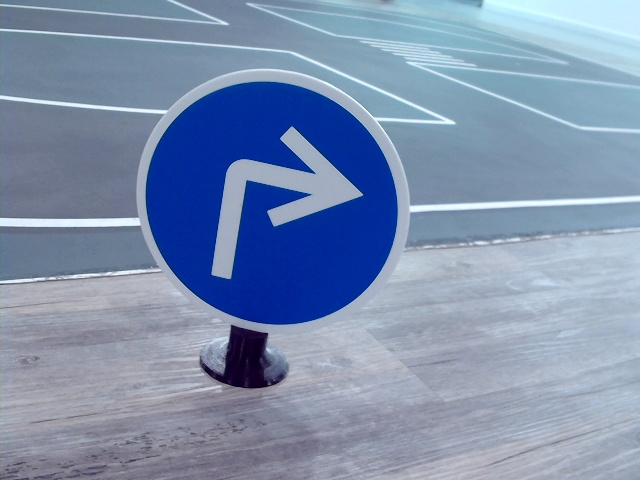turn_right: (204, 117, 361, 286)
